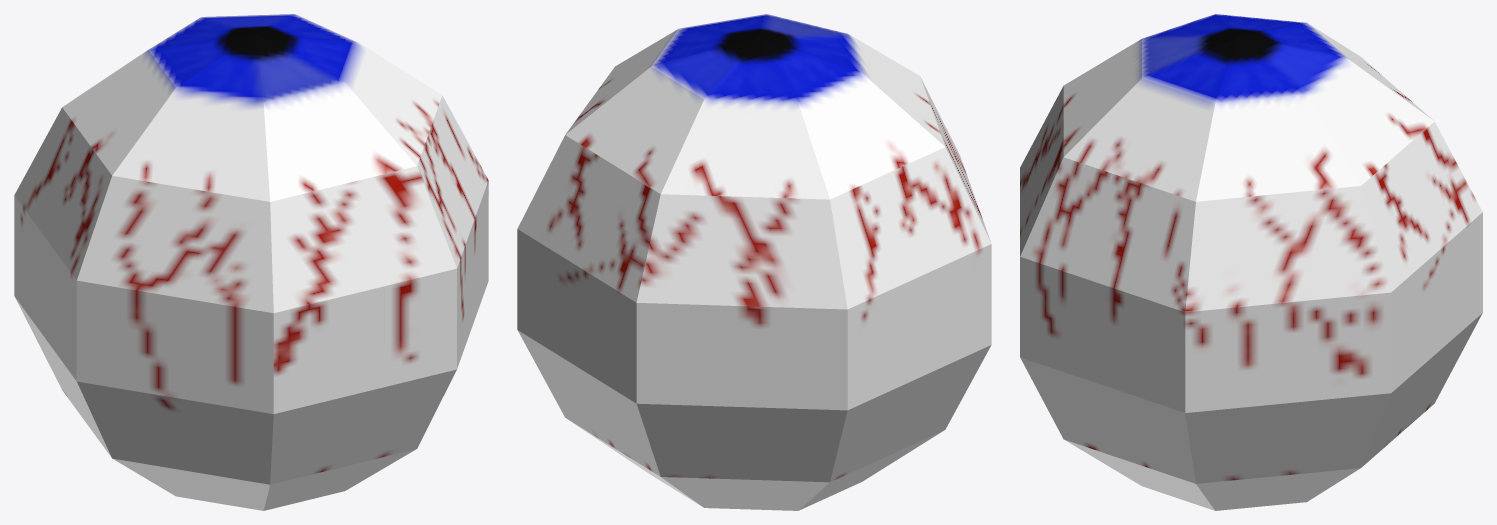
The model's file is eye.fbx.
3 renders of one model, left to right at view 1: azimuth 30°, elevation 25°; view 2: azimuth 150°, elevation 25°; view 3: azimuth 270°, elevation 25°, orthographic.
Parts seen in each view (by area): view 1: Sphere; view 2: Sphere; view 3: Sphere.
Boxes of the visible parts, box(x1,y1,x2,y2) form: Sphere: box(14, 14, 488, 510); Sphere: box(517, 14, 991, 510); Sphere: box(1020, 14, 1482, 510).
Bounding box in the file's own units: 190 × 200 × 185.
